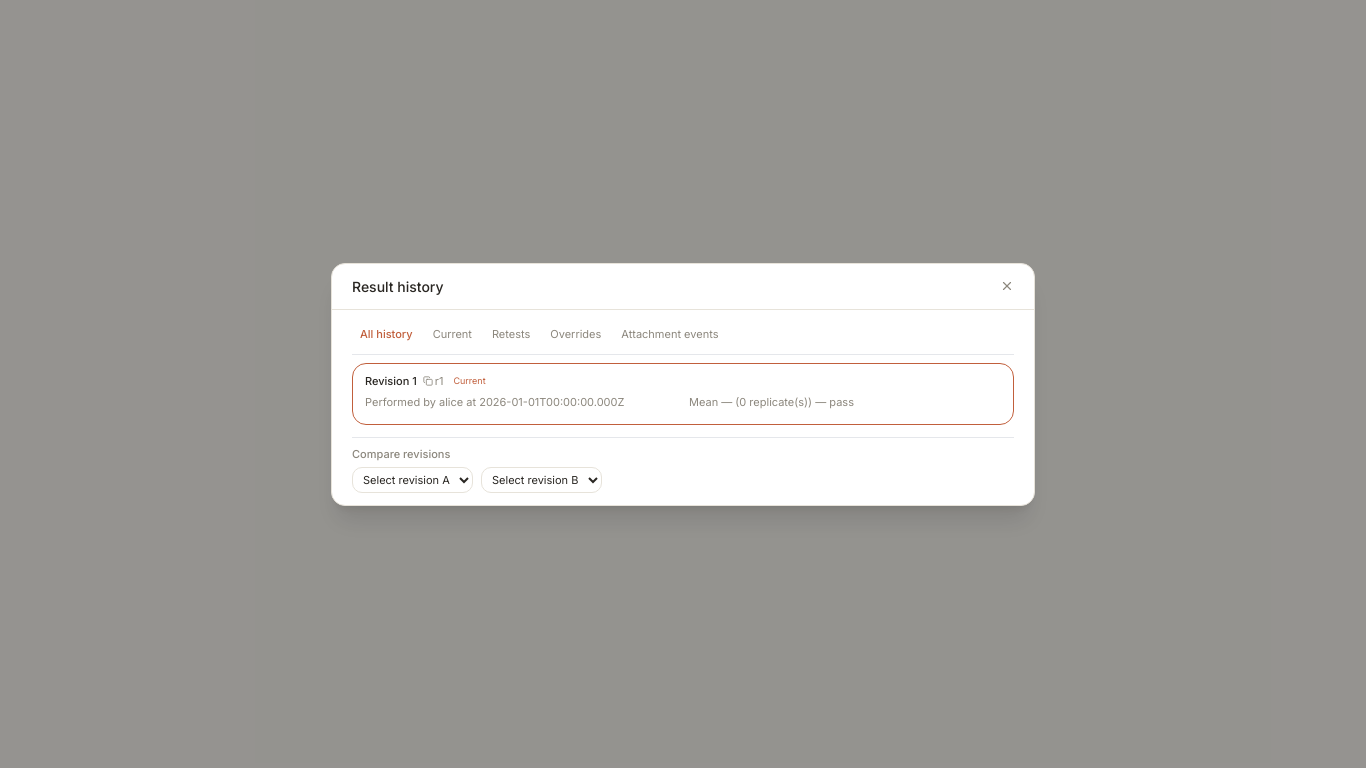
Scenario: ResultHistoryBrowser — retest lineage › lists a retest under the Retests filter, separate from the revision chain
The image size is (1366, 768).
Click the button "Retests" at {"x": 511, "y": 334}, box [484,322,538,346]
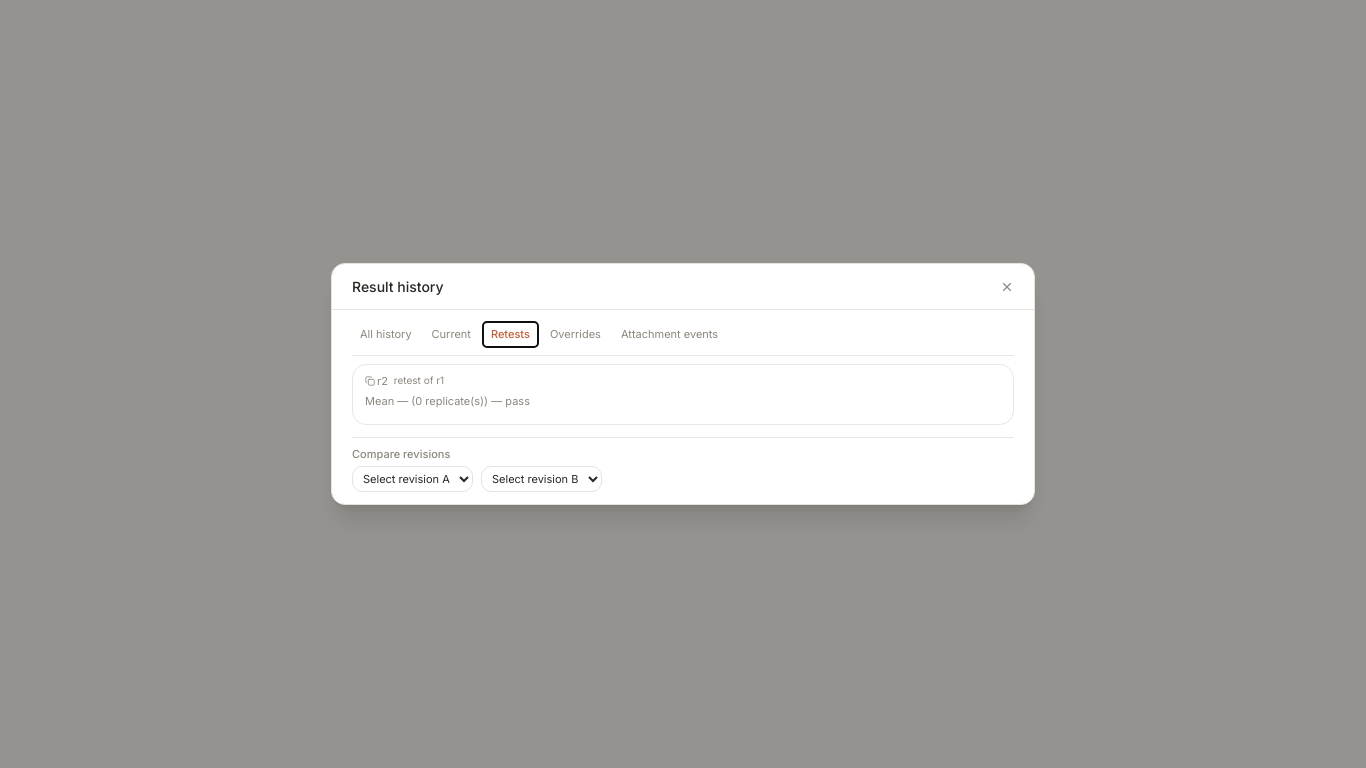
Now the text "retest of r1" is shown, box [394,373,444,388]
